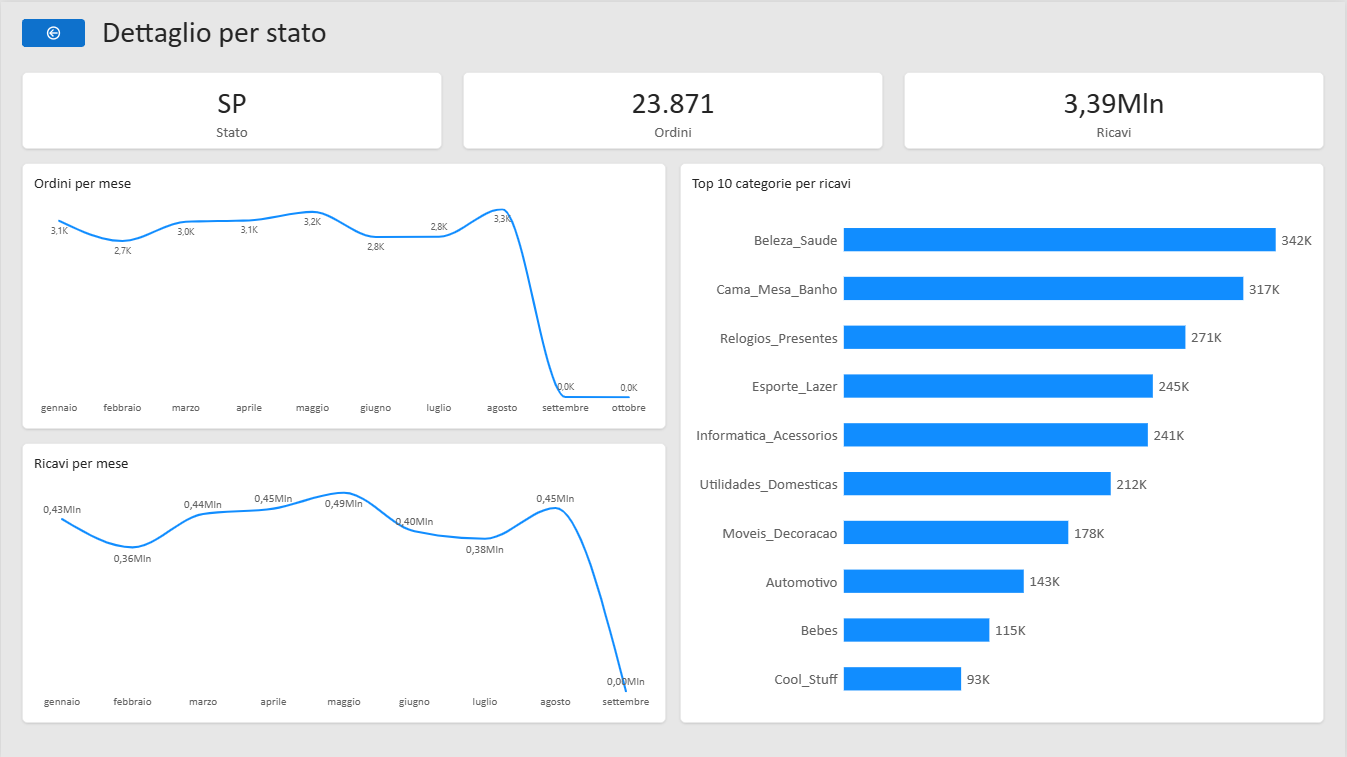

Layout of this report page (visuals, bound fields, positions):
{"tool":"powerbi","page":{"name":"Dettaglio stato","canvas":[1920,1080],"ordinal":1},"visuals":[{"type":"actionButton","box":[30,24,90,40],"z":0},{"type":"card","fields":{"Values":["Misure.Ordini"]},"box":[660,100,600,110],"z":1000},{"type":"card","fields":{"Values":["Misure.Ricavi"]},"box":[1290,100,600,110],"z":2000},{"type":"lineChart","title":"Ordini per mese","fields":{"Y":["Misure.Ordini"],"Category":["Calendario.Mese Nome"]},"box":[30,230,920,380],"z":3000},{"type":"barChart","title":"Top 10 categorie per ricavi","fields":{"Category":["Products.product_category_name"],"Y":["Misure.Ricavi"]},"box":[970,230,920,800],"z":4000},{"type":"card","fields":{"Values":["Min(Customers.customer_state)"]},"box":[30,100,600,110],"z":5000},{"type":"lineChart","title":"Ricavi per mese","fields":{"Y":["Misure.Ricavi"],"Category":["Calendario.Mese Nome"]},"box":[30,630,920,400],"z":6000},{"type":"textbox","box":[144,16,352,64],"z":7000}]}

Visuals, with their boxes in screenshot pixels (x1, y1, x2, y2), scaled from the page's 1920x1080 canvas onto the 1347x757 screenshot:
actionButton: 21 17 84 45
card - Misure.Ordini: 463 70 884 147
card - Misure.Ricavi: 905 70 1326 147
"Ordini per mese" lineChart: 21 161 666 428
"Top 10 categorie per ricavi" barChart: 681 161 1326 722
card - Min(Customers.customer_state): 21 70 442 147
"Ricavi per mese" lineChart: 21 442 666 722
textbox: 101 11 348 56
